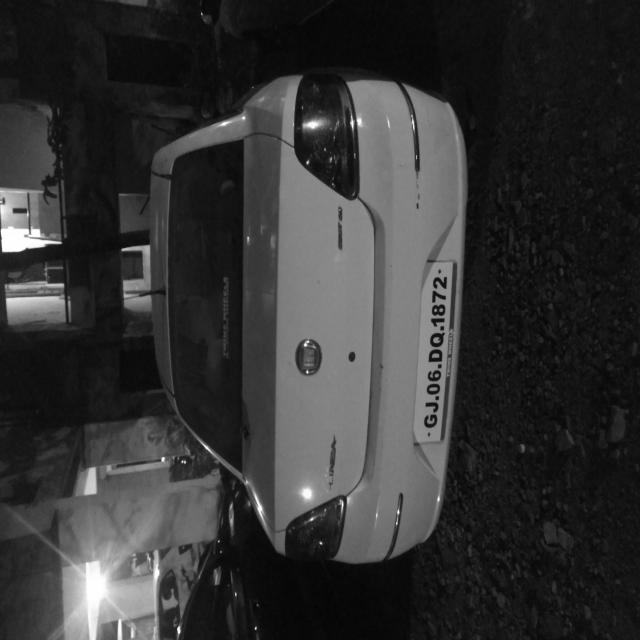car: (52, 164, 431, 640)
license-plate: (140, 548, 289, 601)
